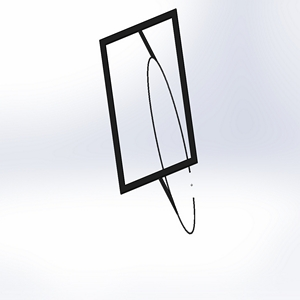circle: (97, 5, 201, 237)
